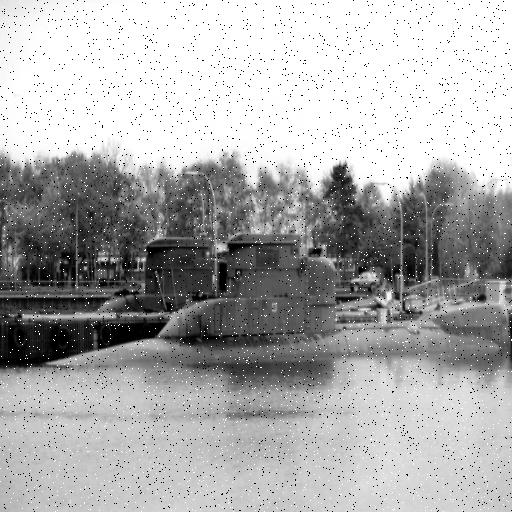submarine: (47, 234, 510, 368)
